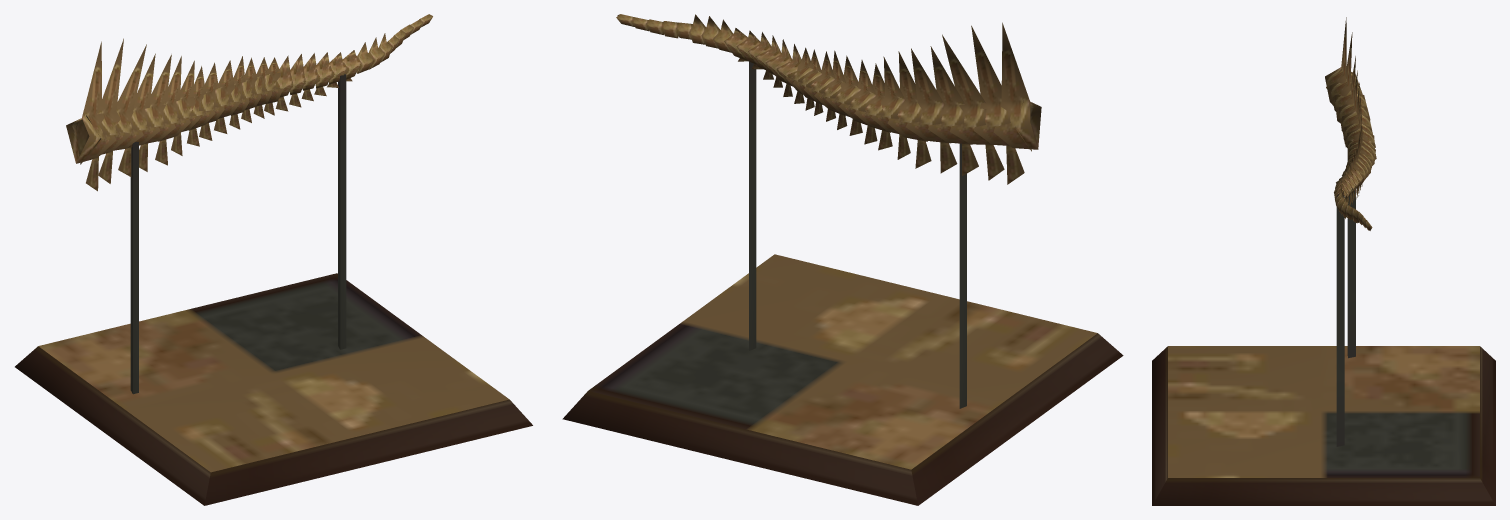
File: int_din_para_c.dae
3 renders of one model, left to right at view 1: azimuth 30°, elevation 25°; view 2: azimuth 150°, elevation 25°; view 3: azimuth 270°, elevation 25°, orthographic. The views are drawn at different scales.
Visible parts, largest first — view 1: int_din_para_c; view 2: int_din_para_c; view 3: int_din_para_c.
Part boxes in pixels (x1,y1,x2,y2): int_din_para_c: (15,14,532,505); int_din_para_c: (562,14,1123,505); int_din_para_c: (1152,17,1495,505).
Bounding box in the file's own units: 66.77 × 65.67 × 58.65.
1 material, 1 textured.
